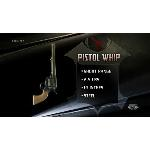Pistol: (31, 41, 64, 111)
